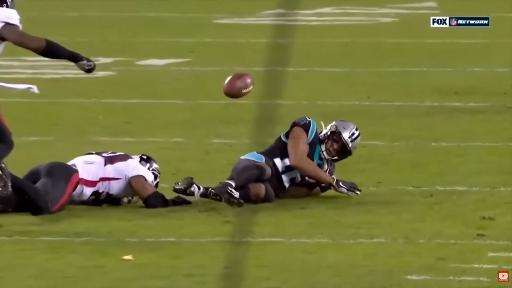Helmet: (320, 120, 360, 162), (133, 155, 160, 188), (0, 0, 14, 9)
Jersey: (260, 117, 325, 188), (68, 152, 154, 201), (0, 0, 21, 29)
Player: (174, 117, 360, 206), (24, 152, 191, 211), (0, 0, 96, 73), (0, 0, 95, 73)
